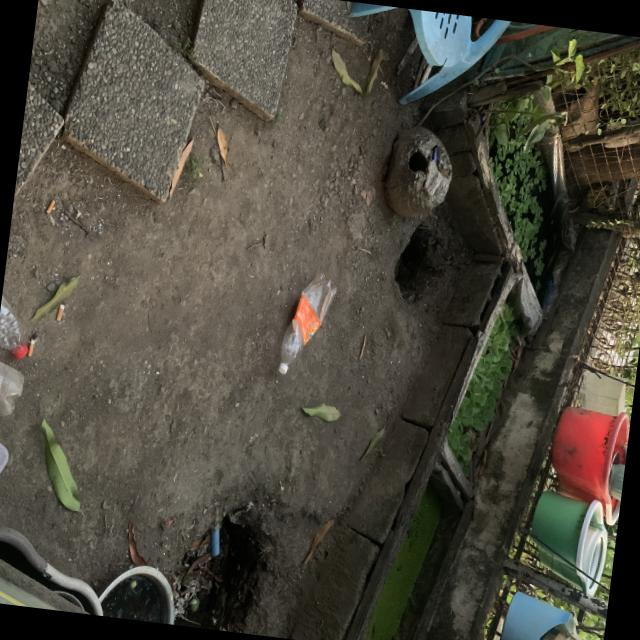Bottle: (277, 271, 336, 374)
